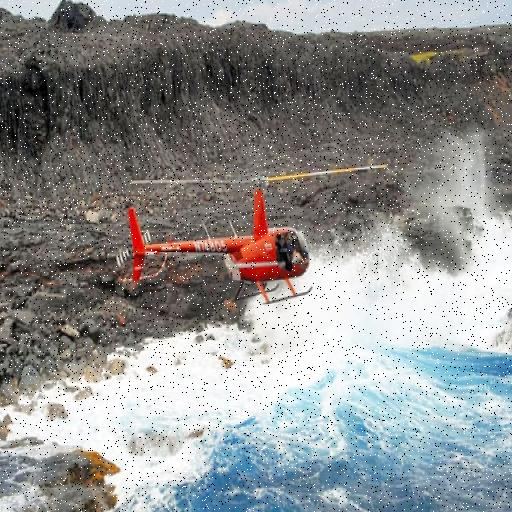helicopter: (125, 165, 388, 306)
